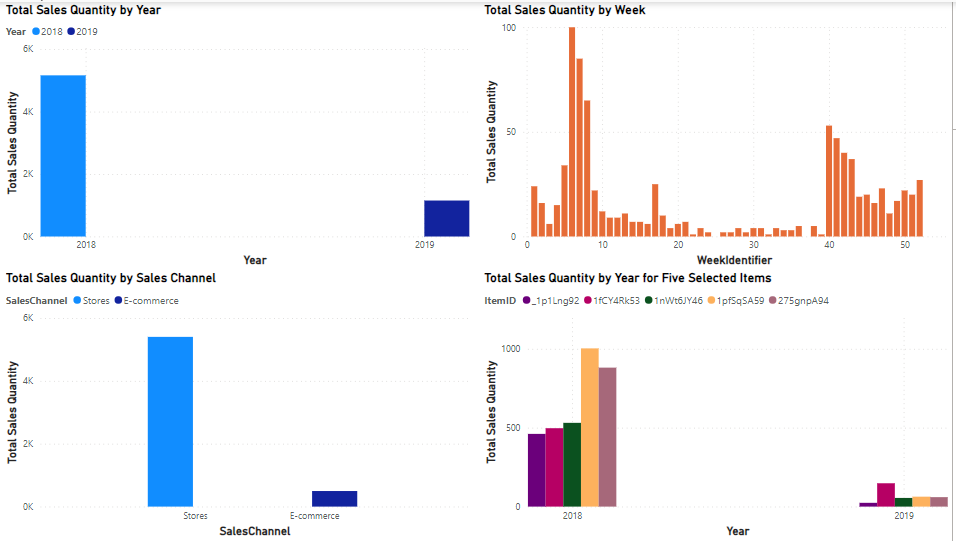

The dashboard page shown, as its layout file describes it:
{"tool":"powerbi","page":{"name":"Page 4","canvas":[1280,720],"ordinal":3},"visuals":[{"type":"clusteredColumnChart","title":"Total Sales Quantity by Year","fields":{"Y":["factSales.Total Sales Quantity"],"Category":["dimDates.Year"],"Series":["dimDates.Year"]},"box":[10.3,0,629.6,358.8],"z":0},{"type":"clusteredColumnChart","title":"Total Sales Quantity by Year for Five Selected Items ","fields":{"Y":["factSales.Total Sales Quantity"],"Category":["dimDates.Year"],"Series":["factSales.ItemID"]},"box":[650.3,358.8,629.6,360.5],"z":1000},{"type":"clusteredColumnChart","title":"Total Sales Quantity by Sales Channel","fields":{"Category":["dimChannels.SalesChannel"],"Y":["factSales.Total Sales Quantity"],"Series":["dimChannels.SalesChannel"]},"box":[10.3,358.8,629.6,360.5],"z":2000},{"type":"clusteredColumnChart","title":"Total Sales Quantity by Week","fields":{"Category":["dimDates.WeekIdentifier"],"Y":["factSales.Total Sales Quantity"]},"box":[650.3,0,629.6,358.8],"z":3000}]}

Visuals, with their boxes in screenshot pixels (x1, y1, x2, y2), scaled from the page's 1280x720 canvas onto the 956x541 screenshot:
"Total Sales Quantity by Year" clusteredColumnChart: left=8, top=0, right=478, bottom=270
"Total Sales Quantity by Year for Five Selected Items " clusteredColumnChart: left=486, top=270, right=955, bottom=540
"Total Sales Quantity by Sales Channel" clusteredColumnChart: left=8, top=270, right=478, bottom=540
"Total Sales Quantity by Week" clusteredColumnChart: left=486, top=0, right=955, bottom=270
